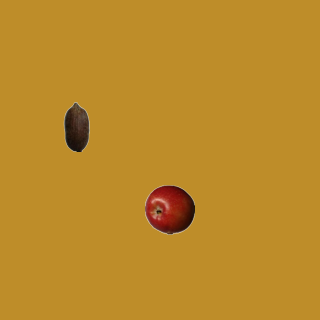Apple Braeburn: (144, 184, 194, 234)
Nut Pecan: (51, 101, 101, 151)
